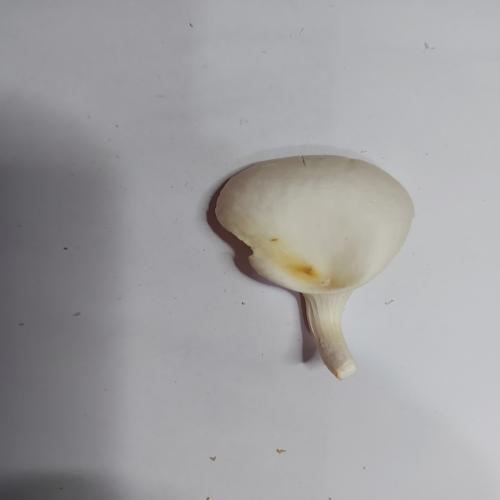Oyster Mushroom: (213, 153, 415, 380)
